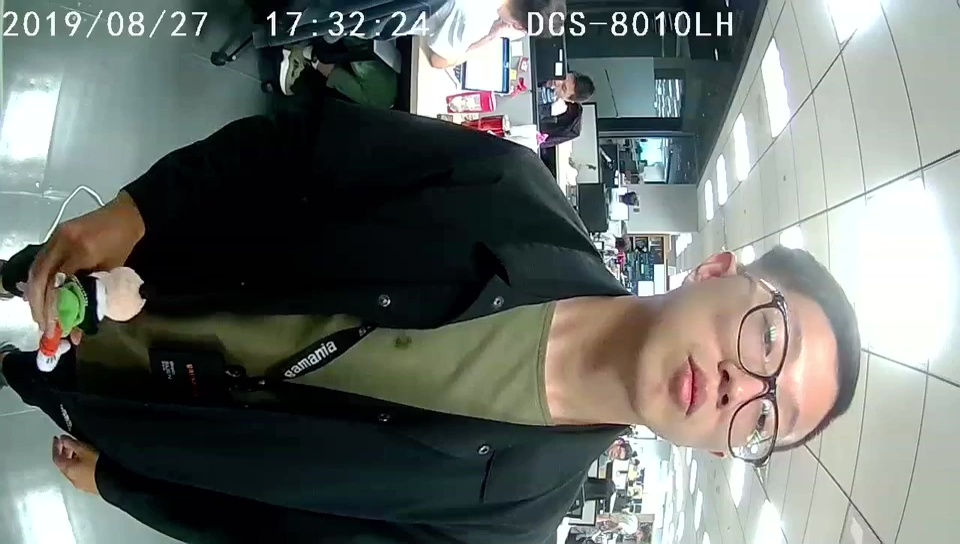goofy: (33, 266, 144, 373)
